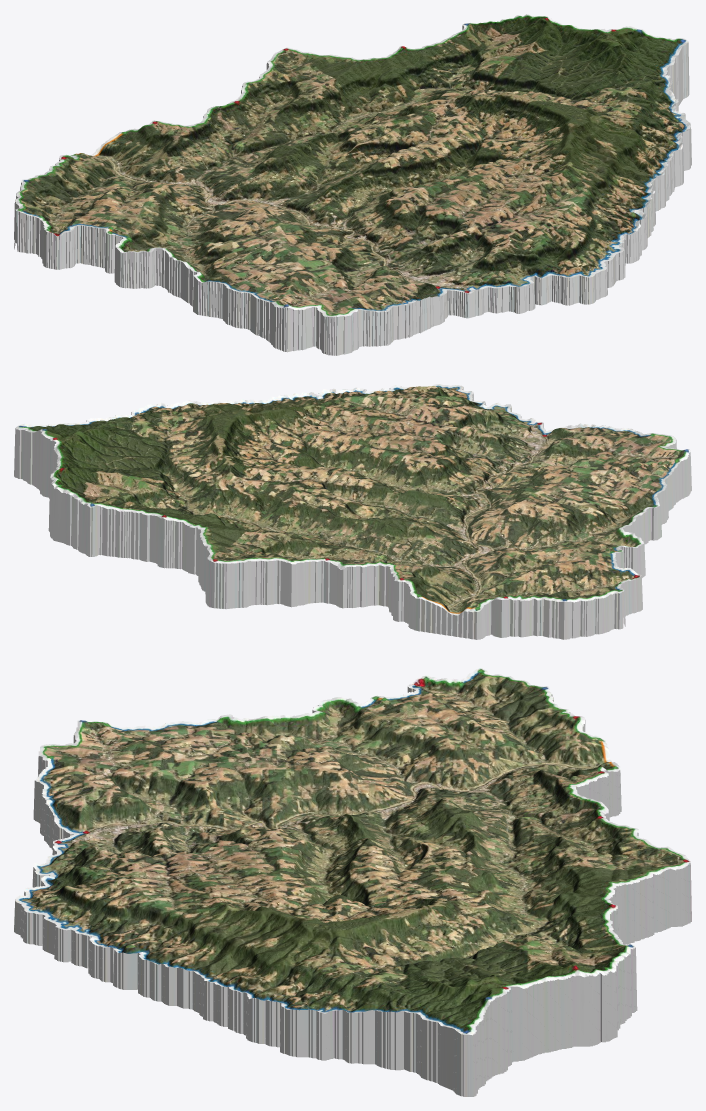
The picture shows the model from 3 angles, top to bottom: view 1: azimuth 30°, elevation 25°; view 2: azimuth 150°, elevation 25°; view 3: azimuth 270°, elevation 25°; orthographic projection. The views are drawn at different scales.
Bounding box in the file's own units: 1 × 0.0936 × 0.7501.
1 material, 1 textured.
